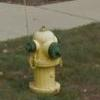Hydrant: (17, 15, 69, 97)
